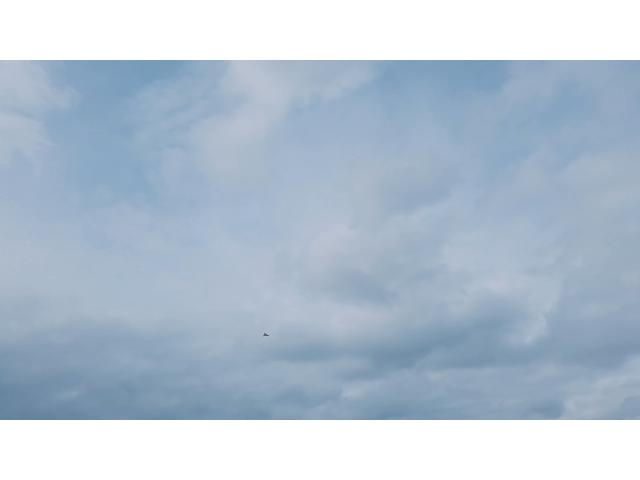Anti-Drone: (258, 328, 274, 340)
